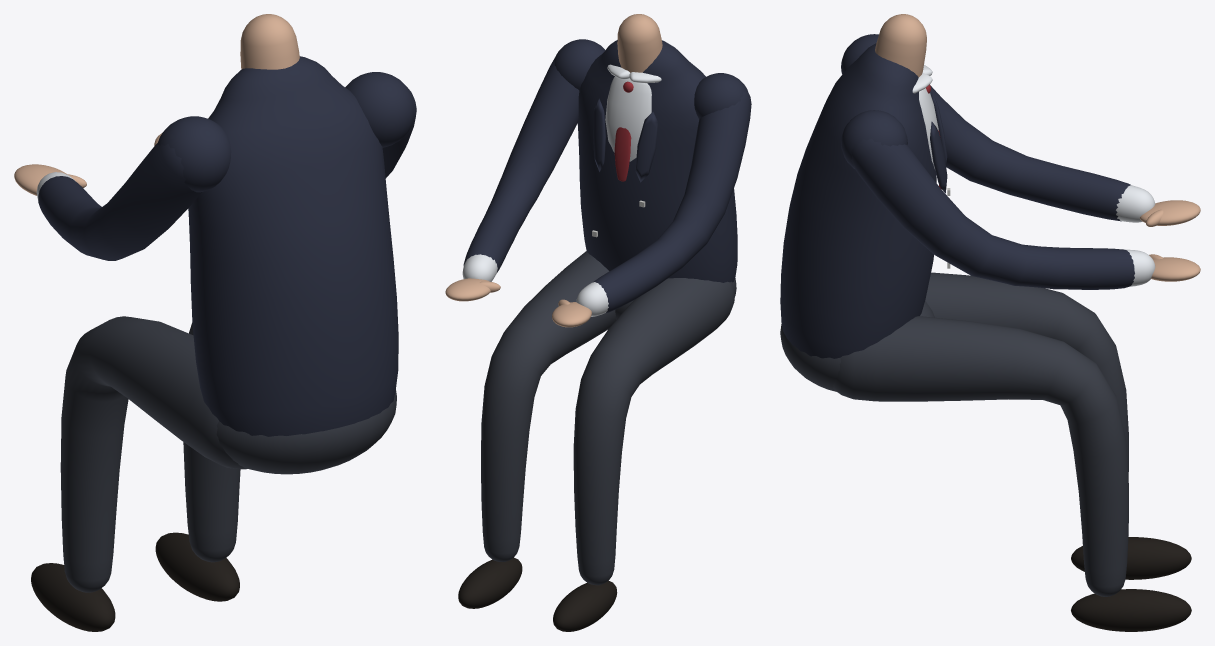
Rendered from giam_doc_than.glb.
The picture shows the model from 3 angles, left to right: view 1: azimuth 30°, elevation 25°; view 2: azimuth 150°, elevation 25°; view 3: azimuth 270°, elevation 25°; orthographic projection. The views are drawn at different scales.
Visible parts, largest first — view 1: giam_doc_than; view 2: giam_doc_than; view 3: giam_doc_than.
Boxes of the visible parts, bbox=[...] form: giam_doc_than: bbox=[14, 14, 416, 631]; giam_doc_than: bbox=[445, 14, 751, 631]; giam_doc_than: bbox=[780, 14, 1200, 631].
Bounding box in the file's own units: 0.5366 × 1.26 × 0.8185.
